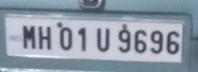0: (59, 26, 72, 52)
1: (76, 27, 87, 52)
6: (133, 29, 148, 54), (167, 30, 181, 55)
9: (150, 29, 165, 56), (117, 28, 131, 53)
H: (38, 25, 54, 51)
M: (20, 24, 36, 50)
U: (96, 26, 112, 53)
